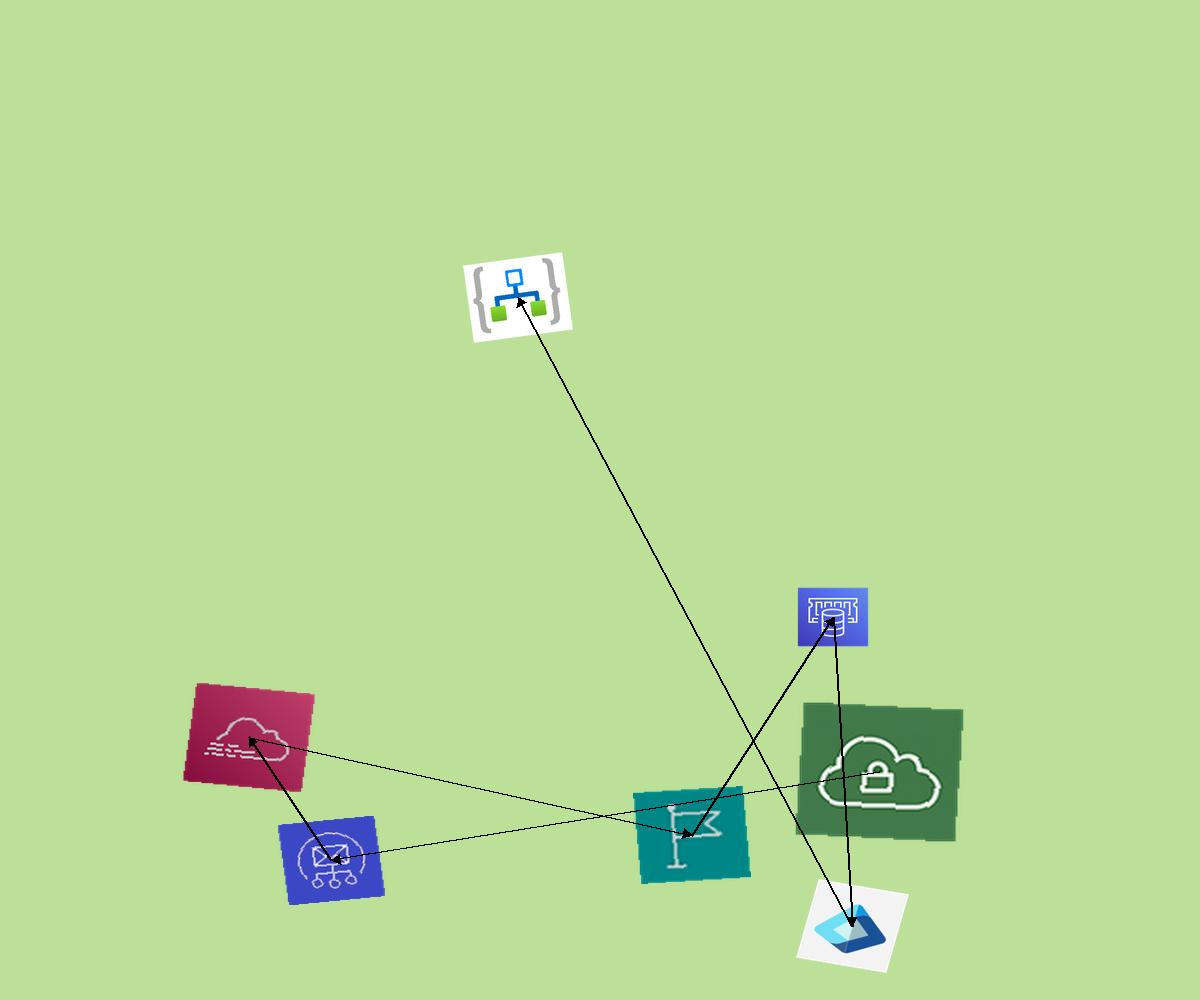AWS-CloudTrail: (182, 682, 316, 793)
AWS-ElastiCache: (797, 587, 869, 647)
AWS-Private_vpc: (794, 701, 965, 843)
AWS-Region: (633, 786, 751, 884)
AWS-Simple-Email-Service: (277, 815, 386, 906)
Azure_integration-204-Logic-Apps: (463, 252, 573, 343)
Azure_microsoft_entra: (796, 879, 909, 973)
